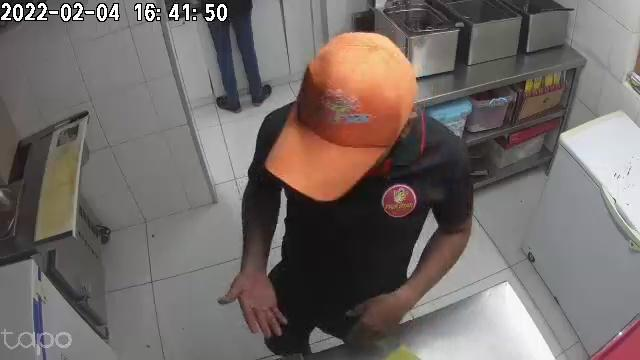no_gloves: (212, 265, 289, 339)
